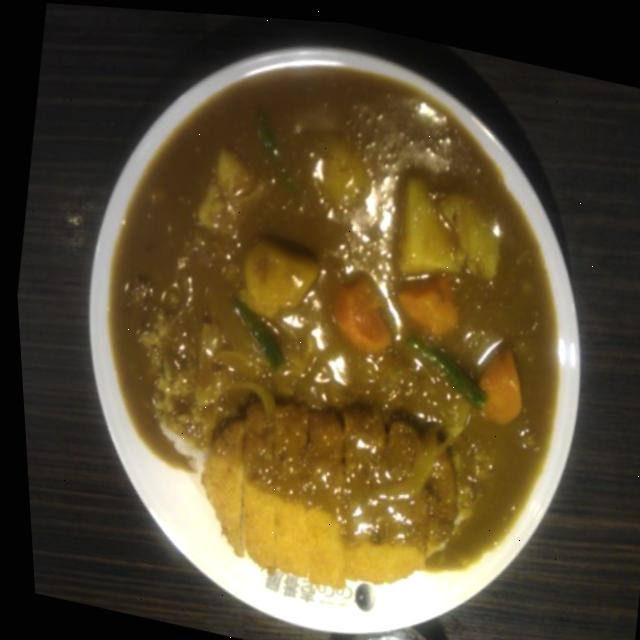猪肉菜式: (26, 5, 635, 640)
